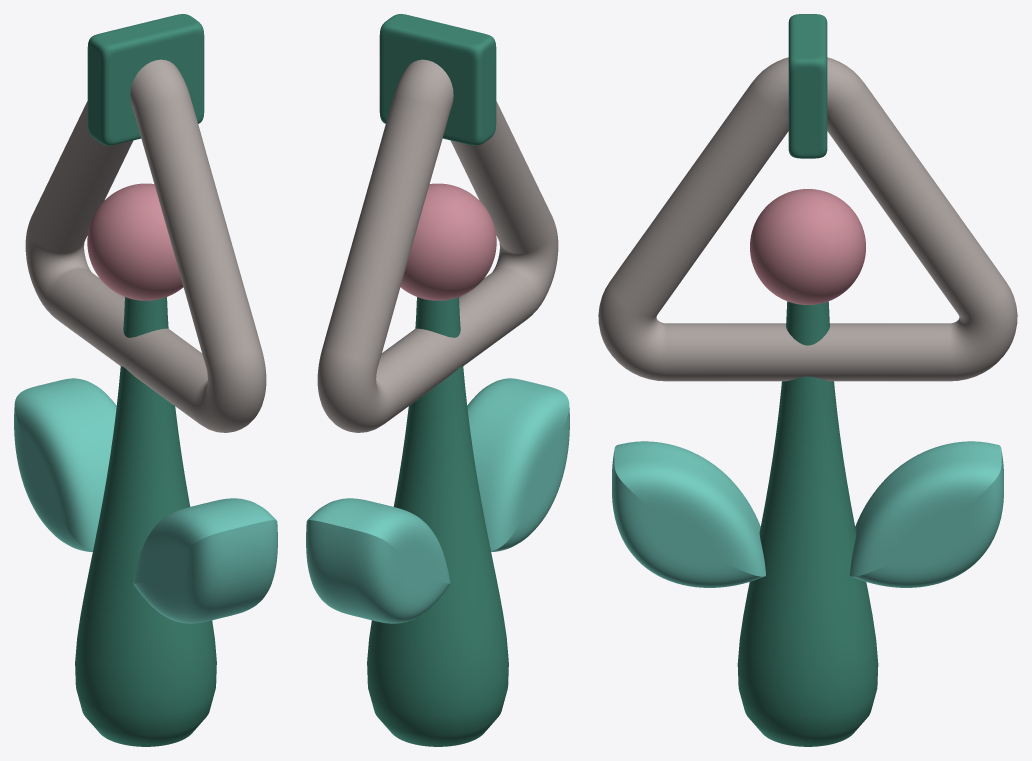
Rendered from triangle_1.fbx.
The picture shows the model from 3 angles, left to right: view 1: azimuth 30°, elevation 25°; view 2: azimuth 150°, elevation 25°; view 3: azimuth 270°, elevation 25°; orthographic projection.
Parts seen in each view (by area): view 1: 圖層 05; view 2: 圖層 05; view 3: 圖層 05.
Boxes of the visible parts, x1=… form: 圖層 05: x1=14, y1=14, x2=277, y2=746; 圖層 05: x1=306, y1=14, x2=569, y2=746; 圖層 05: x1=598, y1=14, x2=1017, y2=746.
Bounding box in the file's own units: 726 × 4000 × 2164.
